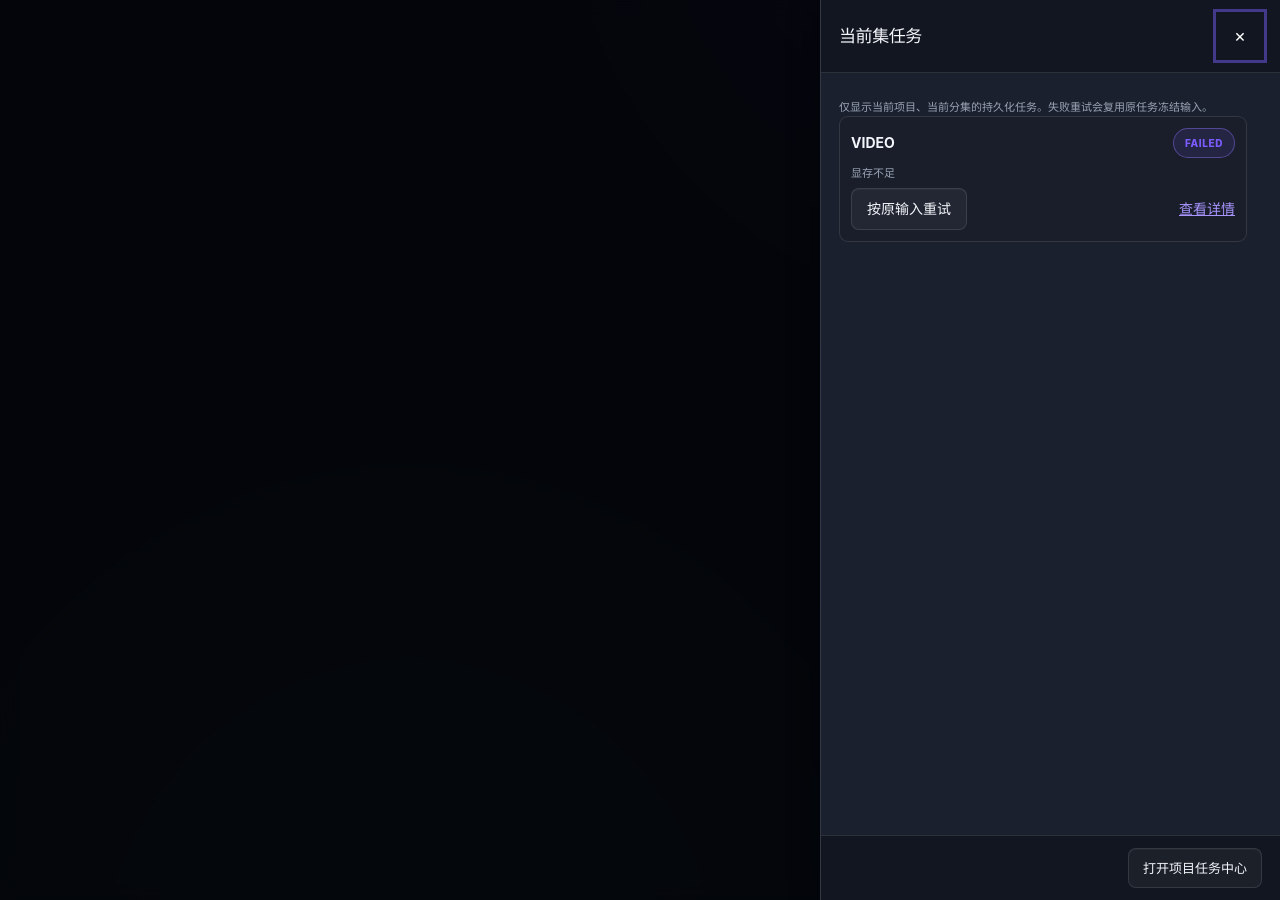
Test: R03 episode retry boundaries › 超时未知先核对，不自动连发
Click the button "按原输入重试" at (909, 209), box [851, 188, 967, 230]
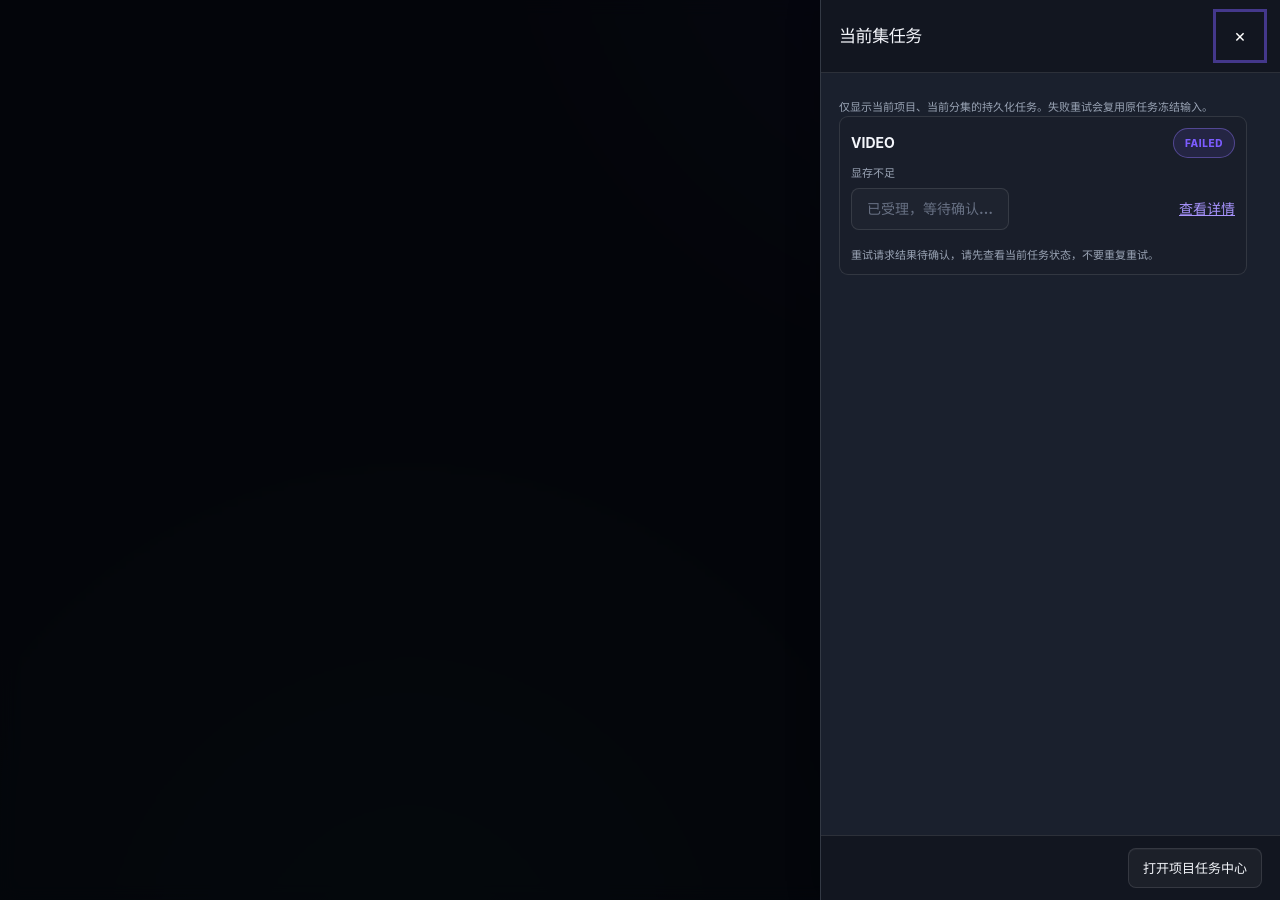
Expected: the text "重试请求结果待确认，请先查看当前任务状态，不要重复重试。" is shown, [851, 248, 1159, 262]
